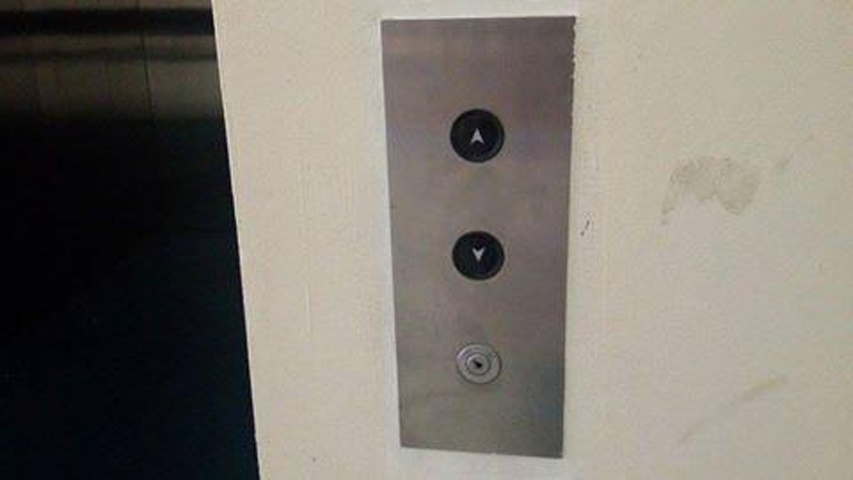down: (451, 231, 505, 282)
keyhole: (455, 343, 501, 386)
up: (448, 107, 506, 164)
